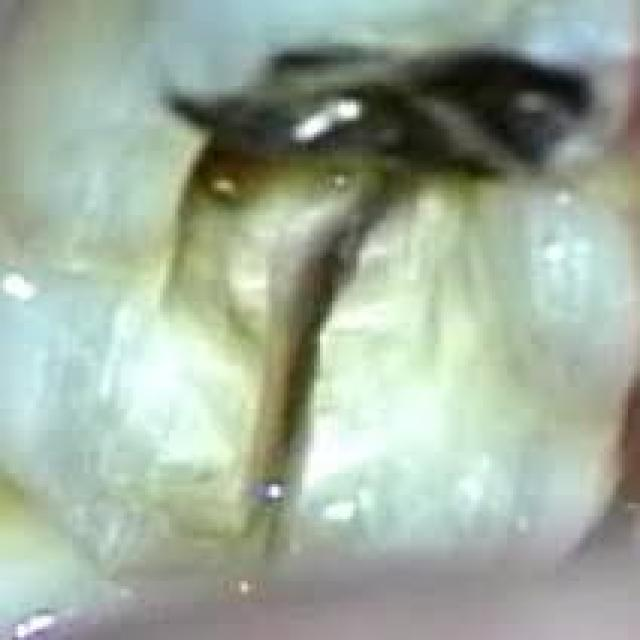Caries: (172, 48, 592, 207), (287, 188, 389, 446), (272, 48, 362, 67)
Tooth: (0, 0, 637, 597)
